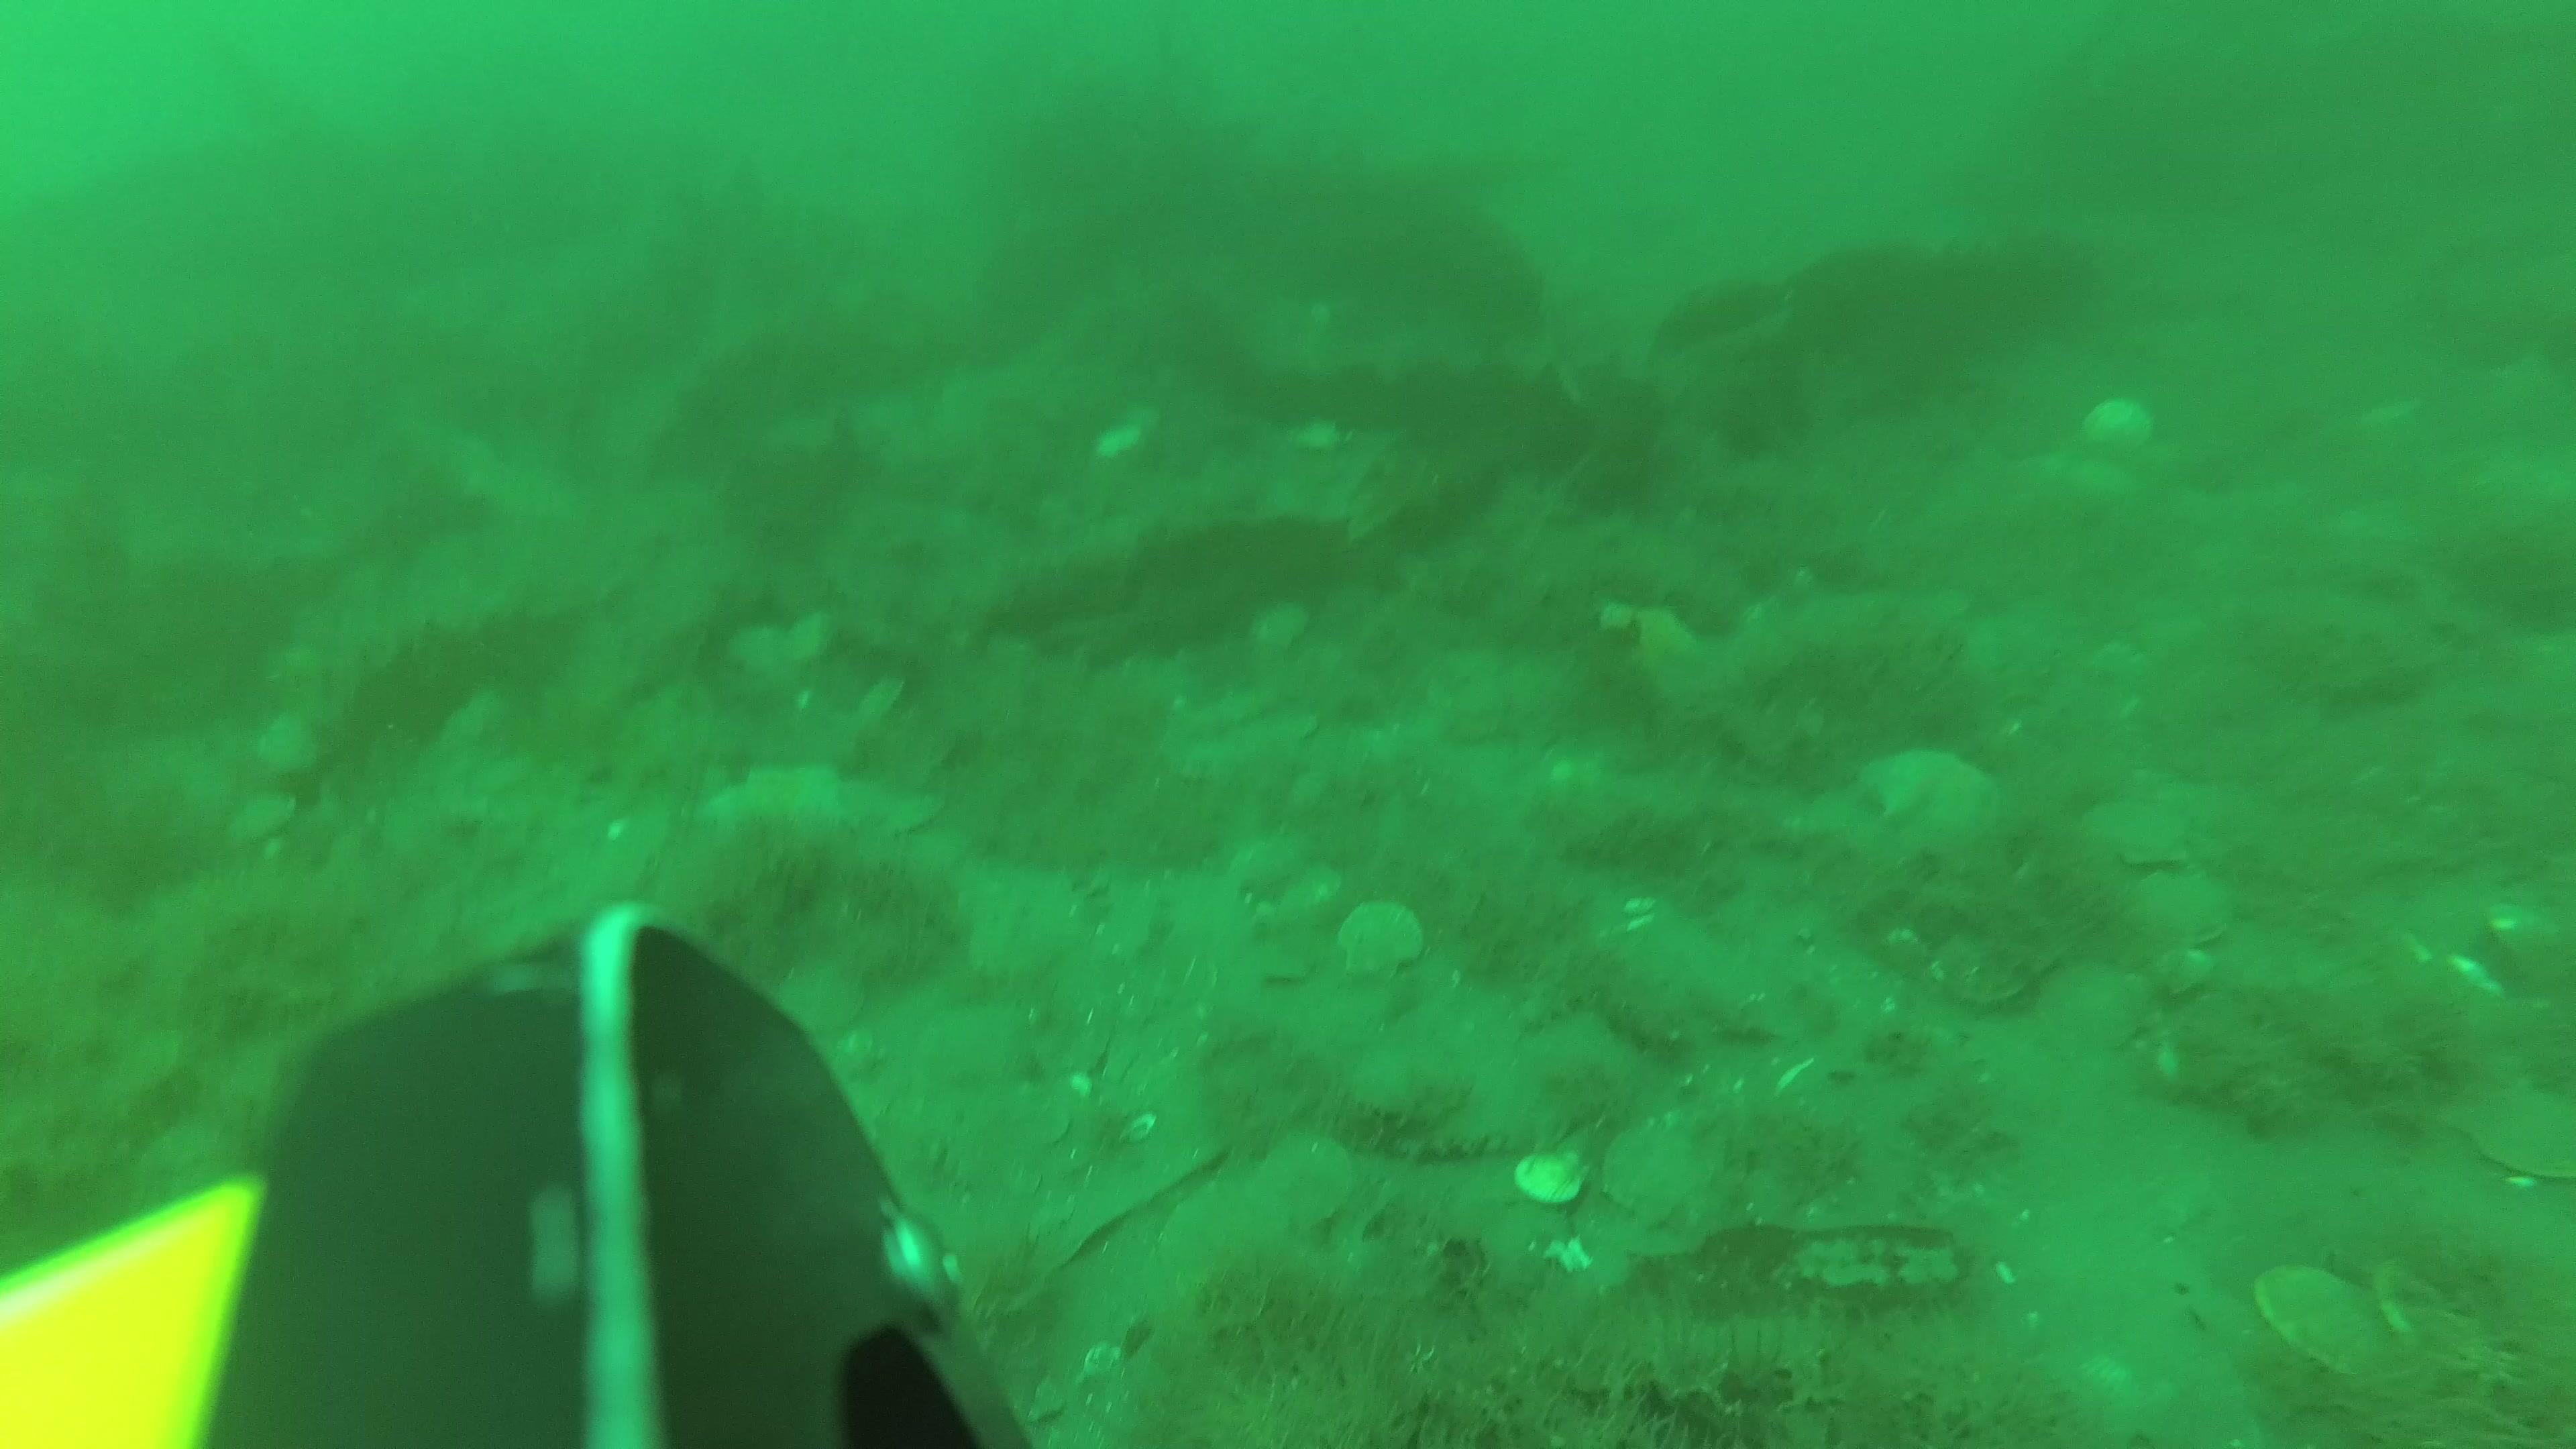holothurian: (1026, 955, 1116, 1079), (1511, 957, 1610, 1030)
scallop: (2245, 1256, 2404, 1387), (2454, 1065, 2576, 1192), (2031, 961, 2160, 1063), (1601, 1122, 1718, 1228), (1258, 1127, 1355, 1240), (1918, 918, 2035, 1008), (1571, 1189, 1704, 1261), (2128, 867, 2245, 948), (771, 952, 872, 1044), (2079, 791, 2199, 867), (1334, 895, 1435, 985), (1346, 1047, 1460, 1127), (221, 784, 308, 849), (1513, 1143, 1596, 1210), (2082, 382, 2157, 456), (1242, 591, 1315, 660), (249, 713, 327, 775), (1224, 837, 1313, 890), (853, 663, 911, 736), (885, 782, 945, 846), (725, 623, 796, 676), (782, 605, 835, 665)
starfish: (697, 755, 870, 862), (1858, 738, 2006, 844)
